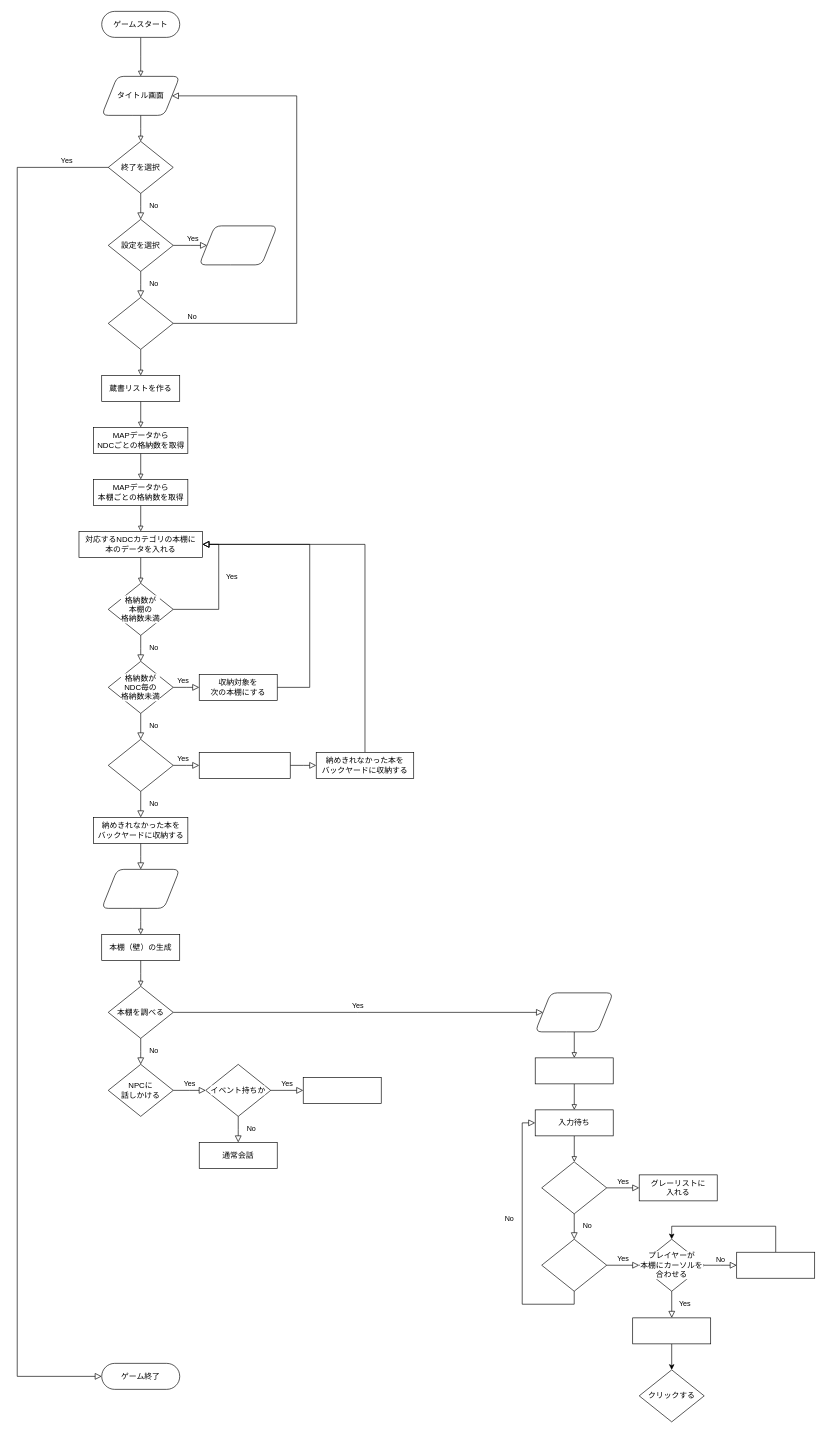
Some shapes in this 826 by 1433 pixel diagram are drawn without their labels. The centre of each missing label's shape, as x and y in pixels:
イベント発生: pixel 342 1090
スタートを 選択: pixel 140 323
収納対象を 次のNDCの本棚にする: pixel 244 765
図書館の画面: pixel 140 888
待機: pixel 775 1265
挿入箇所に スペースを作る: pixel 671 1330
本を クリックしたか: pixel 574 1187
本をデータに沿って 配置する: pixel 574 1070
本棚（イラスト） を表示する: pixel 574 1012
格納数が 図書館全体の 格納数未満: pixel 140 765
自分の インベントリ から取り出す: pixel 574 1265
設定画面: pixel 238 245
